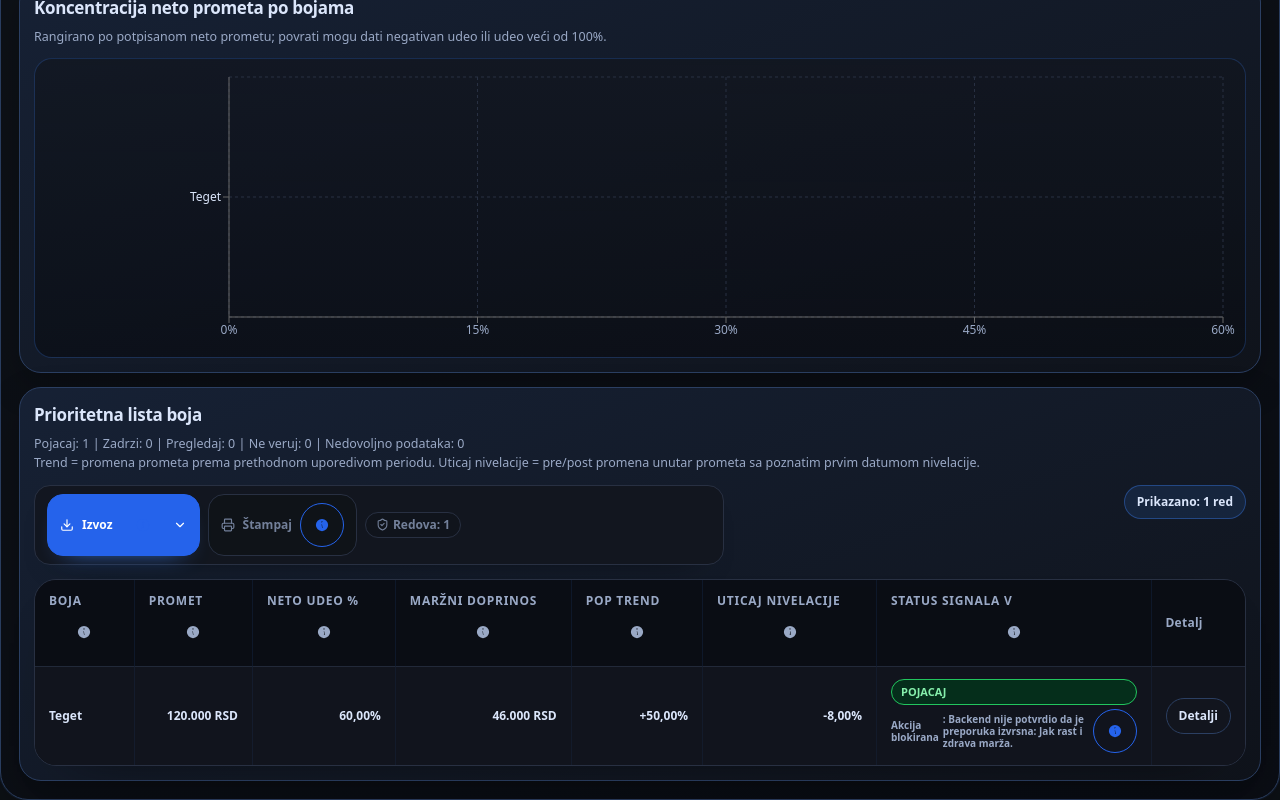
Test: ColorSalesStatsPage premium controls › keeps raw pre/post detail metrics independently unavailable when individual evidence is missing
(page scrolled)
Check: the row that starts with "Teget" is shown, box [35,666,1245,765]
Click the button "Detalji" at (1198, 716), box [1166,698,1231,734]
(page scrolled)
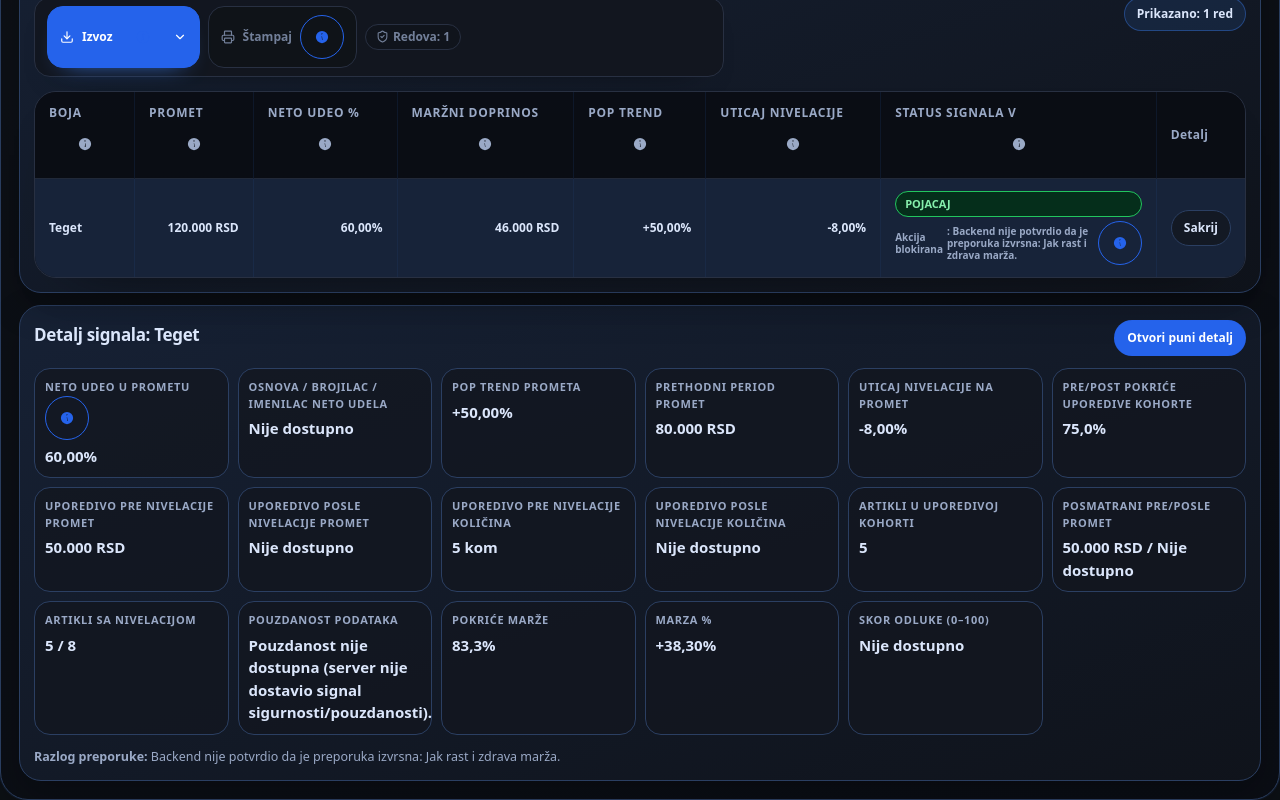
Check: the element "Detalj signala: Teget" is shown, box [19,305,1261,781]
